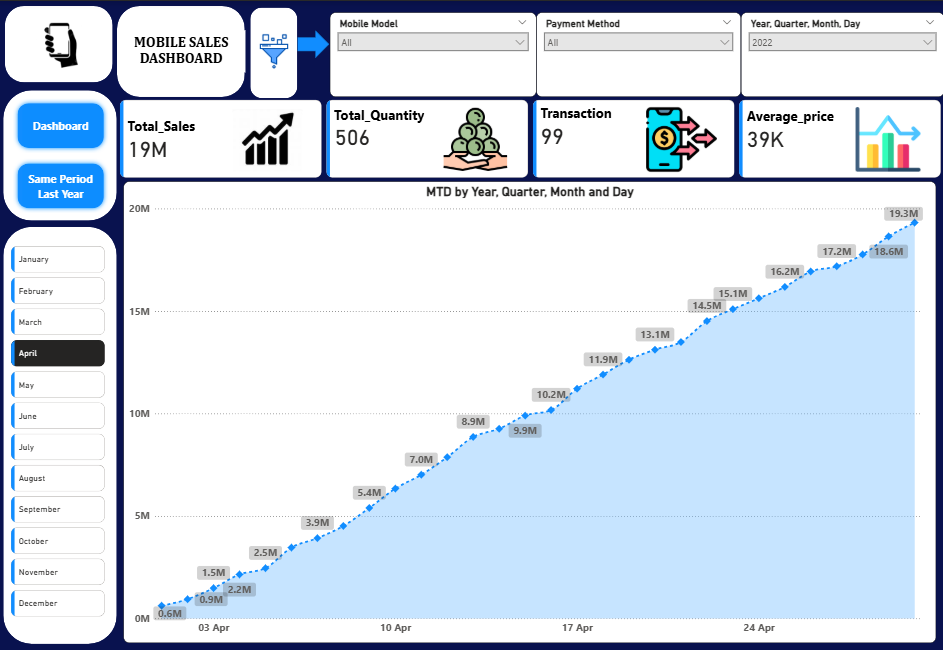

Layout of this report page (visuals, bound fields, positions):
{"tool":"powerbi","page":{"name":"MTD Report","canvas":[1600,1100],"ordinal":1},"visuals":[{"type":"shape","box":[9.5,9.5,182.9,130],"z":0},{"type":"image","box":[23,20.3,154.4,103],"z":1000},{"type":"shape","box":[5.4,150.4,192.4,220.8],"z":2000},{"type":"cardVisual","fields":{"Data":["Sales data.Total_Sales","Sales data.Total_Quantity","Sales data.Transaction","Sales data.Average_price"]},"box":[197.8,163.9,1402.1,142.2],"z":3000},{"type":"slicer","fields":{"Values":["Sales data.Payment Method"]},"box":[909.3,19.3,347.2,143.3],"z":4000},{"type":"slicer","fields":{"Values":["Sales data.Mobile Model"]},"box":[559.3,19.3,349.9,143.3],"z":5000},{"type":"slicer","fields":{"Values":["Custom_Calender.Date.Variation.Date Hierarchy.Year","Custom_Calender.Date.Variation.Date Hierarchy.Quarter","Custom_Calender.Date.Variation.Date Hierarchy.Month","Custom_Calender.Date.Variation.Date Hierarchy.Day"]},"box":[1256.5,19.3,344.4,143.3],"z":6000},{"type":"shape","box":[425.4,10.2,79.9,153.9],"z":7000},{"type":"image","box":[431.2,18.9,69.7,132.1],"z":8000},{"type":"shape","box":[505.3,50.1,54.2,47.4],"z":9000},{"type":"shape","box":[197.8,9.5,216.7,154.4],"z":10000},{"type":"textbox","box":[198.4,49.6,217.7,71.6],"z":11000},{"type":"lineChart","fields":{"Y":["Sales data.MTD"],"Category":["Custom_Calender.Date.Variation.Date Hierarchy.Year","Custom_Calender.Date.Variation.Date Hierarchy.Quarter","Custom_Calender.Date.Variation.Date Hierarchy.Month","Custom_Calender.Date.Variation.Date Hierarchy.Day"]},"box":[210.5,306.4,1377.9,782.6],"z":12000},{"type":"shape","box":[5.4,382,192.4,707.1],"z":13000},{"type":"advancedSlicerVisual","fields":{"Values":["Custom_Calender.Date.Variation.Date Hierarchy.Month"]},"box":[14.9,411.8,169.3,647.5],"z":14000},{"type":"pageNavigator","box":[22.2,164.1,162.7,195.2],"z":15000},{"type":"image","box":[375.7,178.6,157.1,114.3],"z":16000}]}

Visuals, with their boxes in screenshot pixels (x1, y1, x2, y2), scaled from the page's 1600x1100 canvas onto the 943x650 screenshot:
shape: Rect(6, 6, 113, 82)
image: Rect(14, 12, 105, 73)
shape: Rect(3, 89, 117, 219)
cardVisual - Sales data.Total_Sales x Sales data.Total_Quantity: Rect(117, 97, 942, 181)
slicer - Sales data.Payment Method: Rect(536, 11, 741, 96)
slicer - Sales data.Mobile Model: Rect(330, 11, 536, 96)
slicer - Custom_Calender.Date.Variation.Date Hierarchy.Year x Custom_Calender.Date.Variation.Date Hierarchy.Quarter: Rect(741, 11, 942, 96)
shape: Rect(251, 6, 298, 97)
image: Rect(254, 11, 295, 89)
shape: Rect(298, 30, 330, 58)
shape: Rect(117, 6, 244, 97)
textbox: Rect(117, 29, 245, 72)
lineChart - Sales data.MTD x Custom_Calender.Date.Variation.Date Hierarchy.Year: Rect(124, 181, 936, 644)
shape: Rect(3, 226, 117, 644)
advancedSlicerVisual - Custom_Calender.Date.Variation.Date Hierarchy.Month: Rect(9, 243, 109, 626)
pageNavigator: Rect(13, 97, 109, 212)
image: Rect(221, 106, 314, 173)
